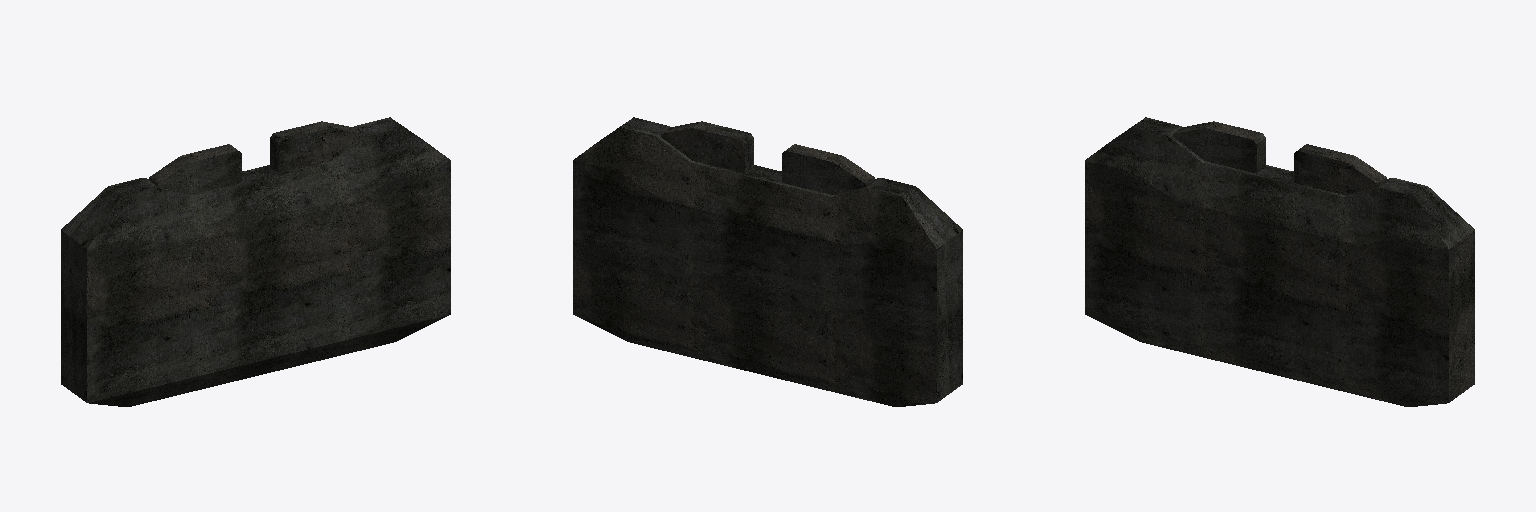
3 views of the same model, side by side, from view 1: azimuth 30°, elevation 25°; view 2: azimuth 150°, elevation 25°; view 3: azimuth 330°, elevation 25° (orthographic).
Parts seen in each view (by area): view 1: Cube; view 2: Cube; view 3: Cube.
Boxes of the visible parts, <box> form: Cube: <box>61,117,450,406</box>; Cube: <box>573,117,962,406</box>; Cube: <box>1085,117,1474,406</box>.
Bounding box in the file's own units: 11.12 × 6.66 × 1.41.
Materials: 1 (1 with a texture image).